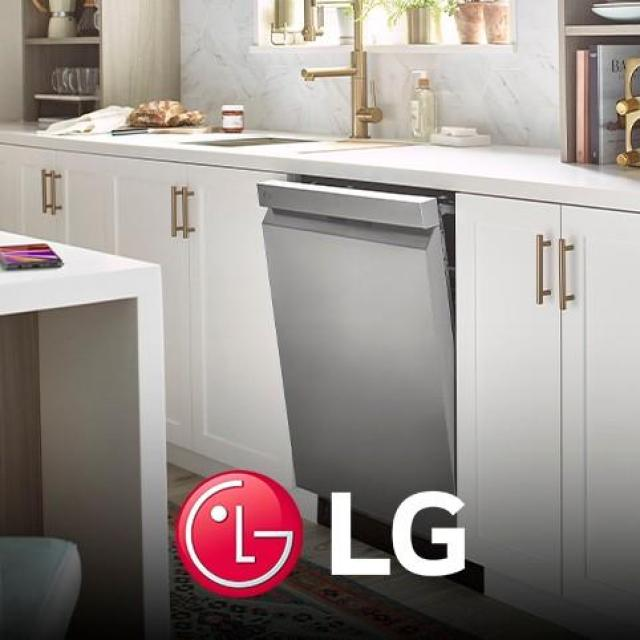dishwasher: (256, 165, 464, 570)
